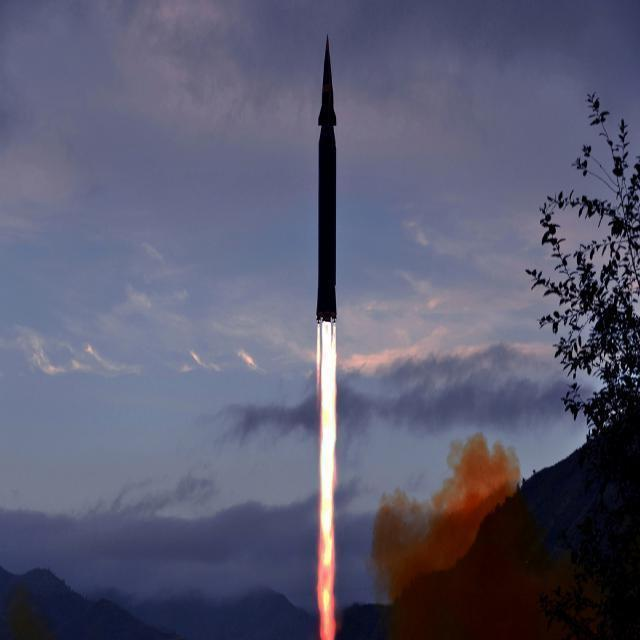missile: (314, 34, 345, 324)
